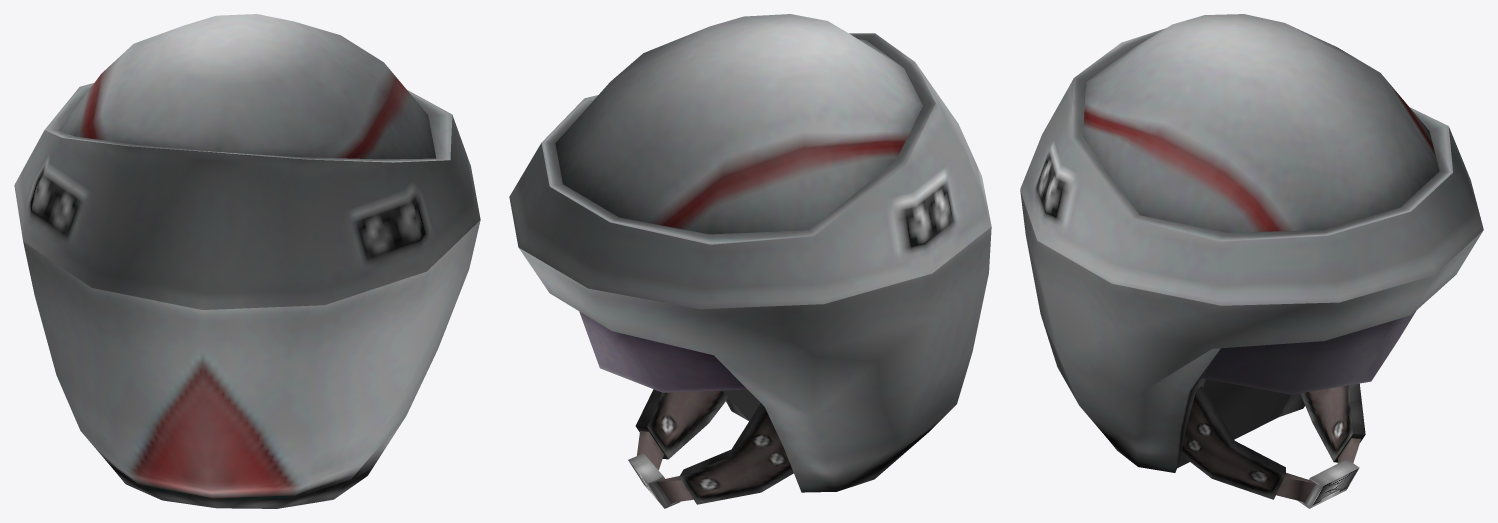
The model's file is sandlot.ico.obj.
3 views of the same model, side by side, from view 1: azimuth 30°, elevation 25°; view 2: azimuth 150°, elevation 25°; view 3: azimuth 270°, elevation 25° (orthographic). The views are drawn at different scales.
Size of the model in its own units: 3.84 by 4.07 by 3.94.
1 material, 1 textured.
